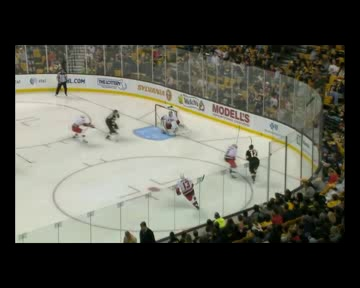normal: (217, 132, 267, 184)
